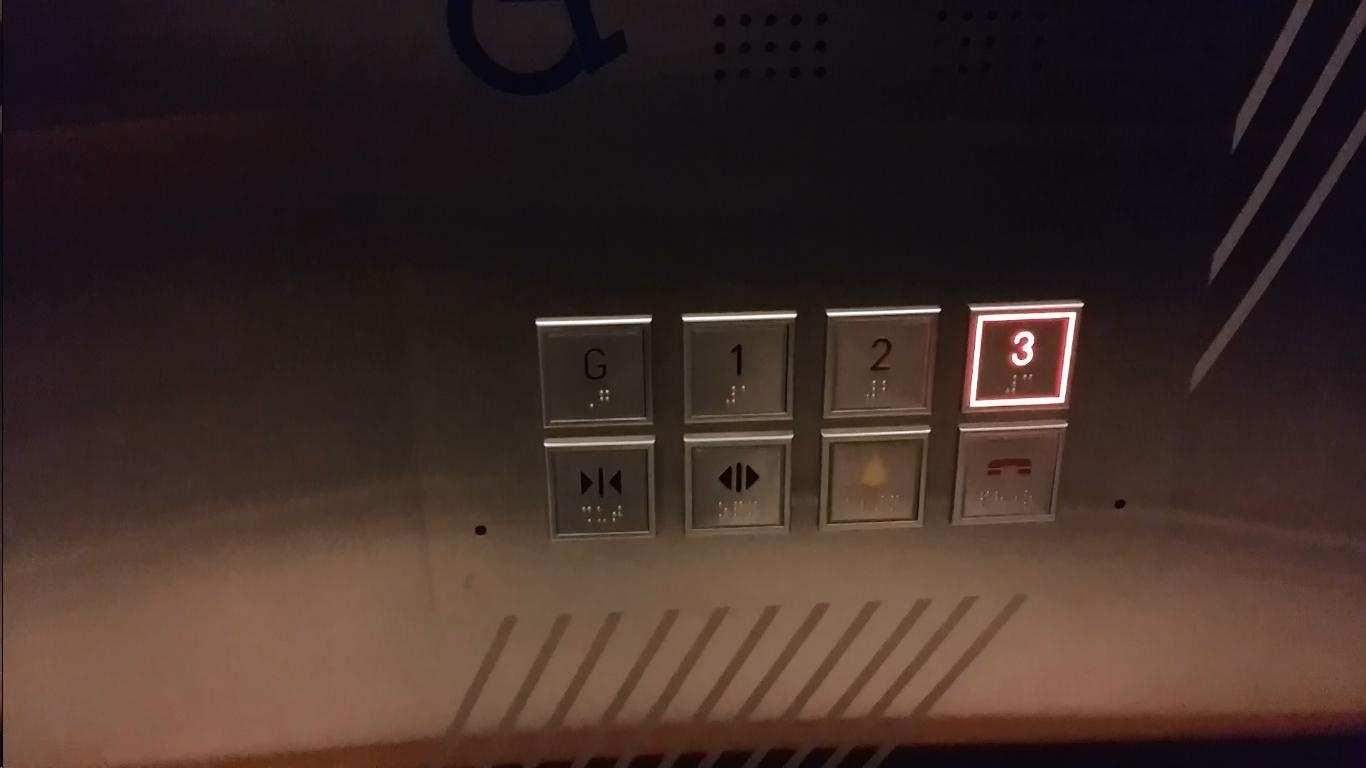1: (675, 312, 799, 423)
2: (817, 306, 940, 418)
3: (960, 300, 1081, 415)
G: (534, 312, 654, 427)
alarm: (814, 427, 929, 533)
call: (952, 421, 1069, 526)
close: (543, 432, 660, 543)
open: (679, 427, 797, 538)
